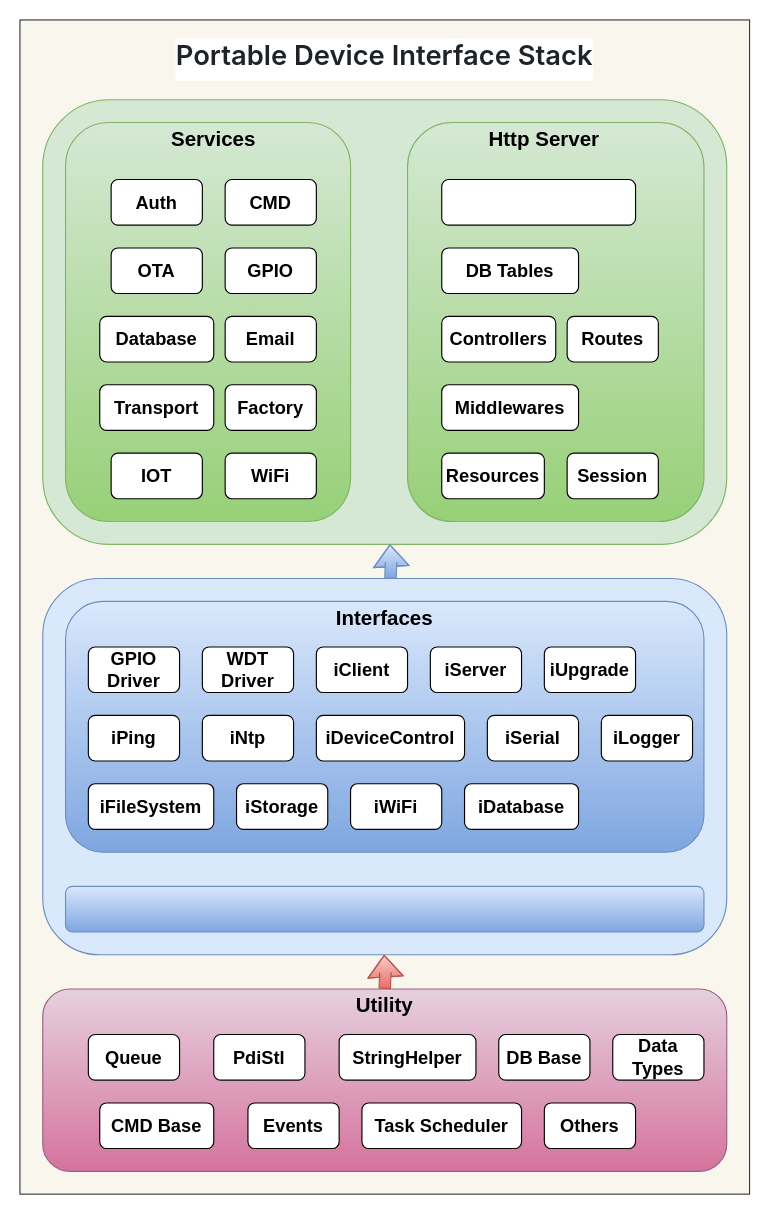
The diagram is 770 pixels wide and 1214 high, and some of its shapes have lost their labels. The shapes that lost their labels are listed below. From the top down, each one's centre as x and y in pixels, then its label:
At (x=538, y=201): "HTML Views Helper".
At (x=384, y=908): "DEVICE_XXXXX".
